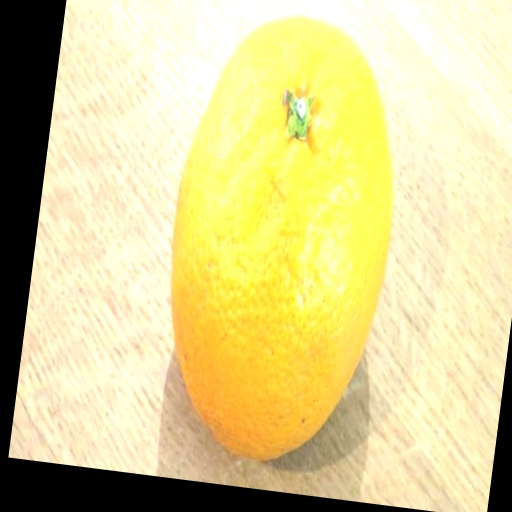fruit: (171, 17, 392, 459)
